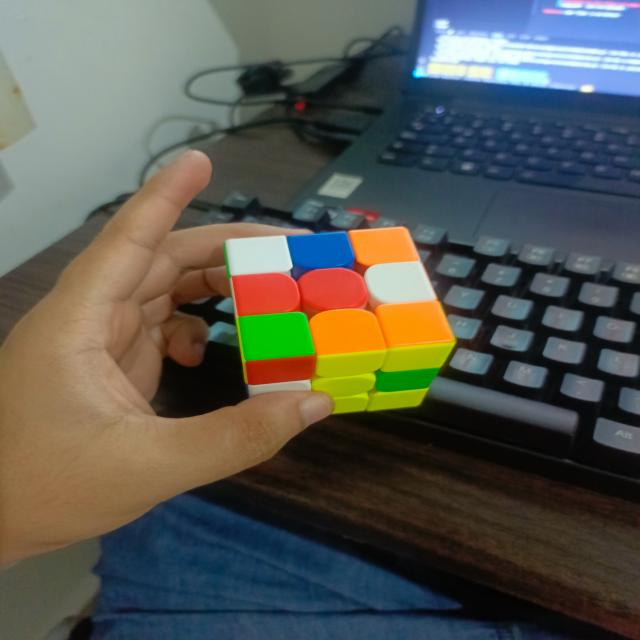rubik: (220, 225, 458, 416)
